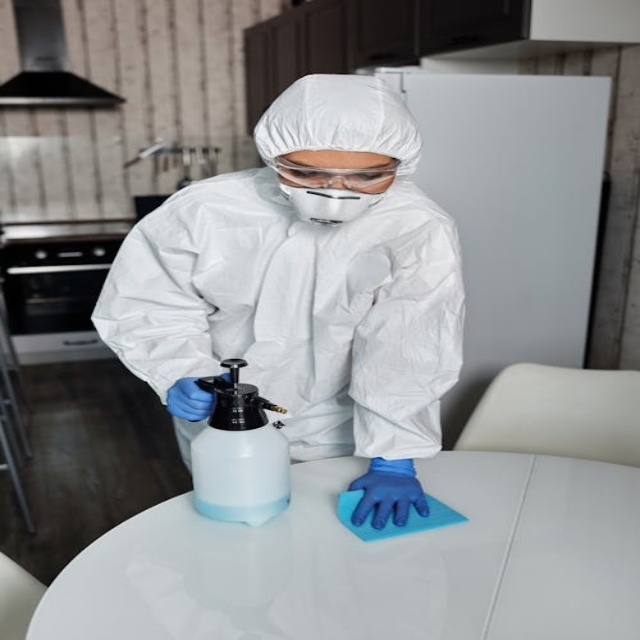Gafas: (272, 155, 401, 192)
Guantes: (347, 458, 429, 528), (166, 376, 217, 422)
Mascara: (276, 167, 389, 226)
